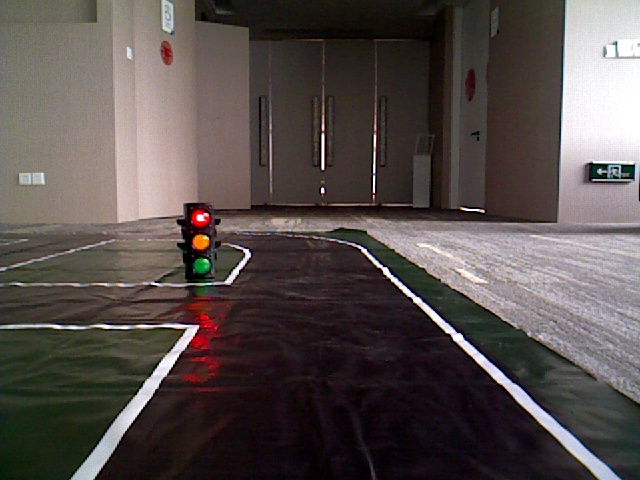red: (185, 208, 210, 274)
